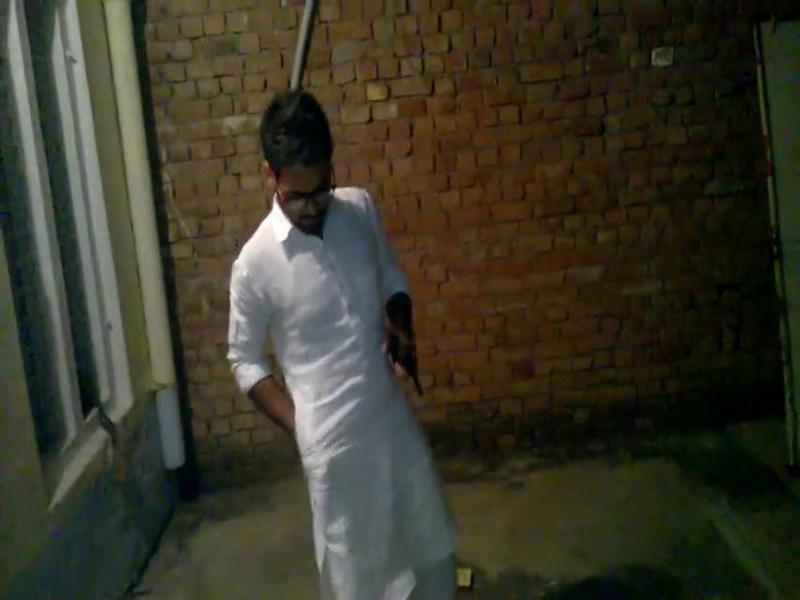Revolver: (374, 315, 433, 413)
